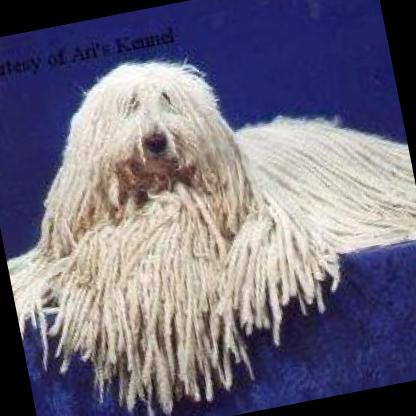komondor: (0, 7, 416, 416)
